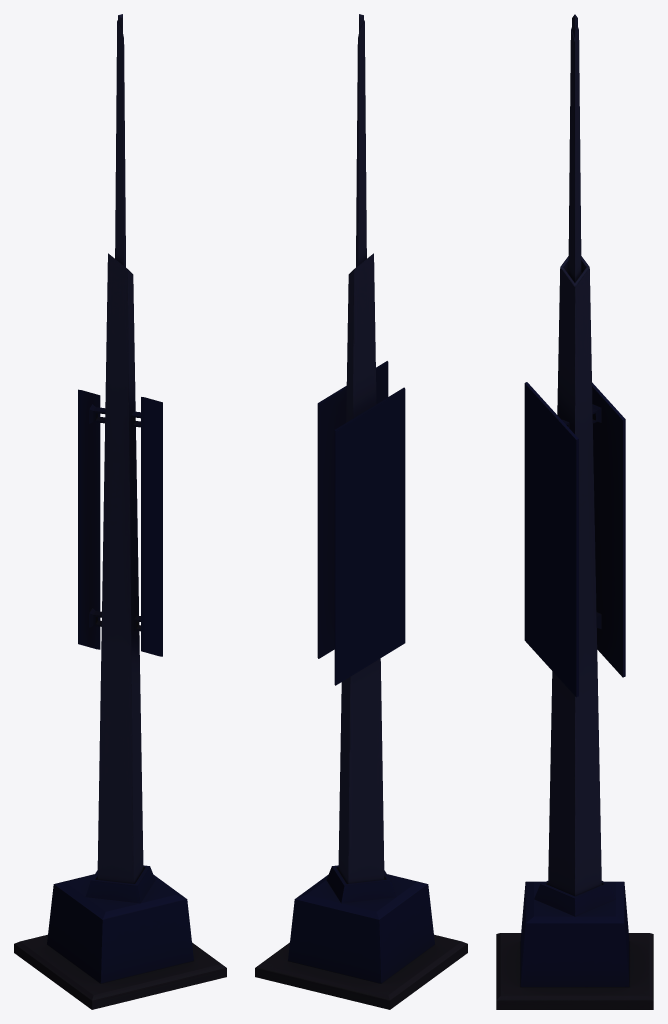
The model's file is tower.obj.
3 views of the same model, side by side, from view 1: azimuth 30°, elevation 25°; view 2: azimuth 150°, elevation 25°; view 3: azimuth 270°, elevation 25° (orthographic).
Parts seen in each view (by area): view 1: Plane; view 2: Plane; view 3: Plane.
Part boxes in pixels (bbox=[...]): Plane: bbox=[14, 14, 226, 1009]; Plane: bbox=[255, 14, 467, 1009]; Plane: bbox=[496, 14, 653, 1009].
Size of the model in its own units: 0.7427 by 5 by 0.7427.
